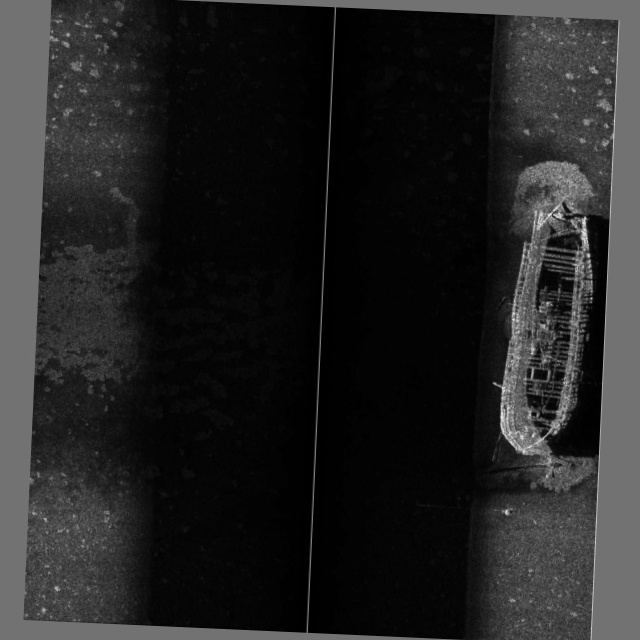Shipwreck: (476, 192, 597, 483)
